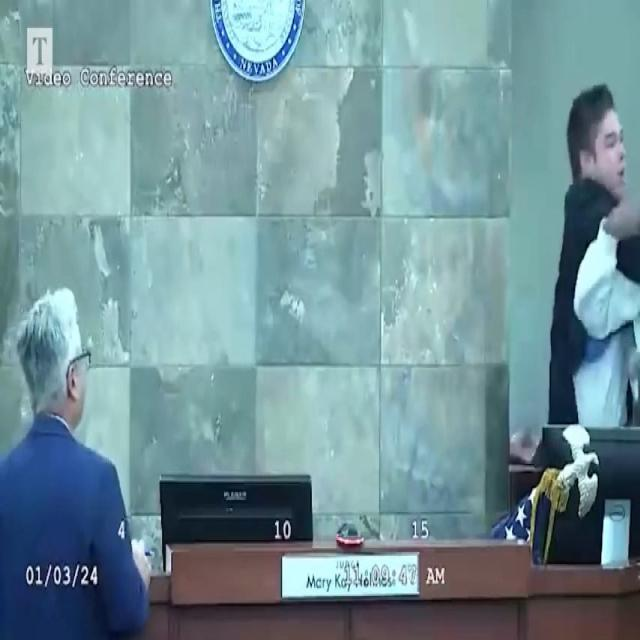fight: (545, 74, 640, 429)
non-fight: (1, 280, 156, 637)
